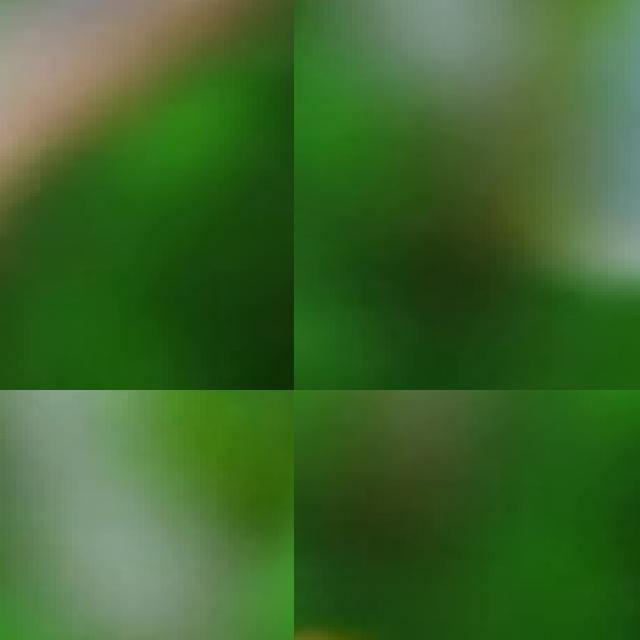fish: (0, 0, 294, 390), (569, 0, 640, 390)
